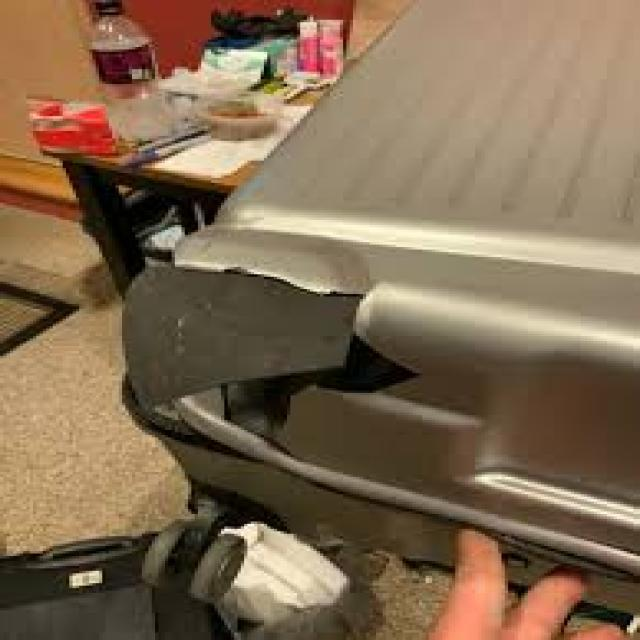Damage-bag: (123, 260, 414, 461)
